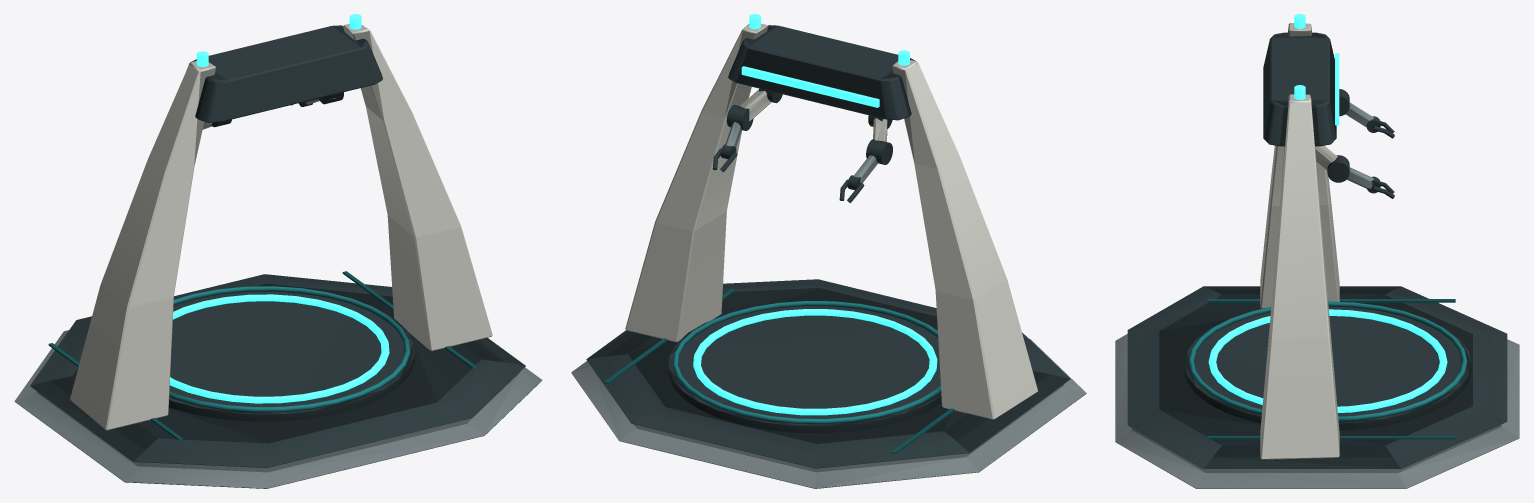
The model's file is RoboticsFoundry.glb.
The picture shows the model from 3 angles, left to right: view 1: azimuth 30°, elevation 25°; view 2: azimuth 150°, elevation 25°; view 3: azimuth 270°, elevation 25°; orthographic projection. The views are drawn at different scales.
Visible parts, largest first — view 1: export_RoboticsFoundry_Foundation; view 2: export_RoboticsFoundry_Foundation, export_RoboticsFoundry_ShoulderJoint.001, export_RoboticsFoundry_ShoulderJoint; view 3: export_RoboticsFoundry_Foundation, export_RoboticsFoundry_ShoulderJoint.001, export_RoboticsFoundry_ShoulderJoint.
Part boxes in pixels (box(x1,y1,x2,y2)): export_RoboticsFoundry_Foundation: box(14, 14, 542, 488); export_RoboticsFoundry_Foundation: box(571, 14, 1086, 488); export_RoboticsFoundry_ShoulderJoint.001: box(712, 88, 782, 172); export_RoboticsFoundry_ShoulderJoint: box(839, 115, 892, 202); export_RoboticsFoundry_Foundation: box(1115, 14, 1519, 488); export_RoboticsFoundry_ShoulderJoint.001: box(1315, 145, 1394, 198); export_RoboticsFoundry_ShoulderJoint: box(1339, 89, 1394, 138).
Size of the model in its own units: 6.56 by 5.35 by 5.77.
